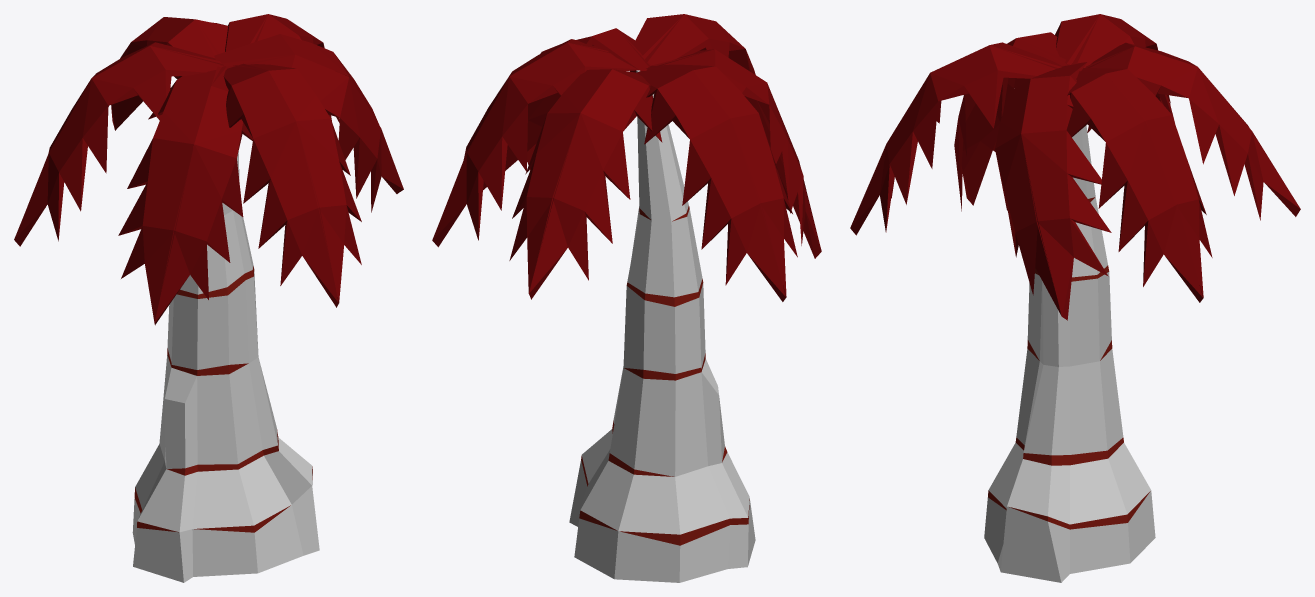
File: Factory_Tree_3.fbx
The picture shows the model from 3 angles, left to right: view 1: azimuth 30°, elevation 25°; view 2: azimuth 150°, elevation 25°; view 3: azimuth 270°, elevation 25°; orthographic projection.
Visible parts, largest first — view 1: Factory Tree 3; view 2: Factory Tree 3; view 3: Factory Tree 3.
Boxes of the visible parts, <box> form: Factory Tree 3: <box>14,14,403,582</box>; Factory Tree 3: <box>432,14,821,582</box>; Factory Tree 3: <box>850,14,1300,582</box>.
Size of the model in its own units: 1540 by 2098 by 1714.
